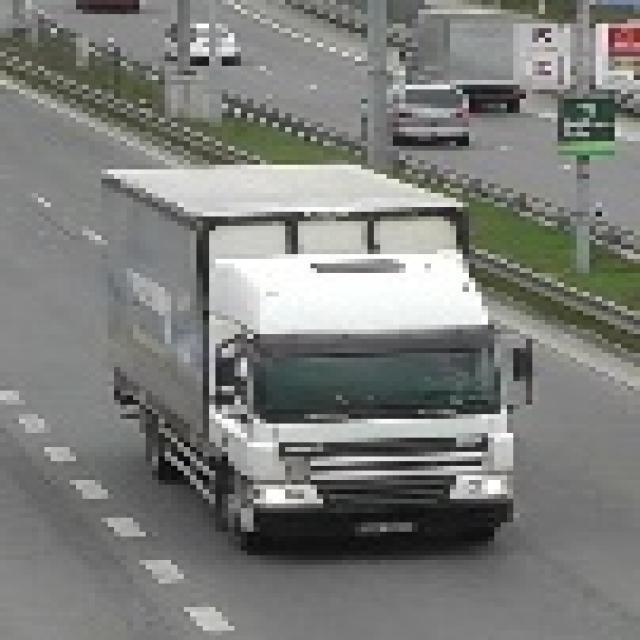Truck: (107, 160, 538, 551)
